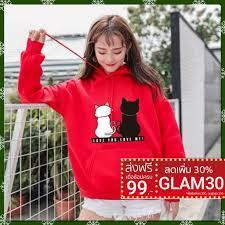sweater: (22, 65, 182, 196)
